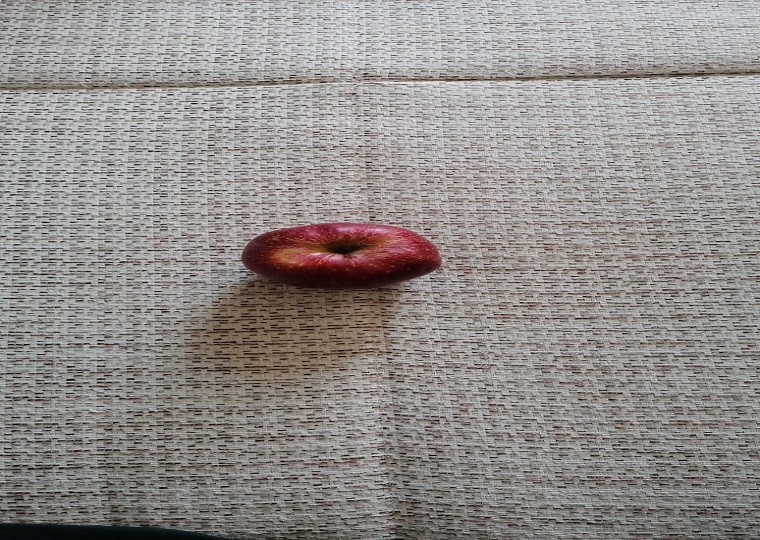elma: (240, 221, 444, 291)
